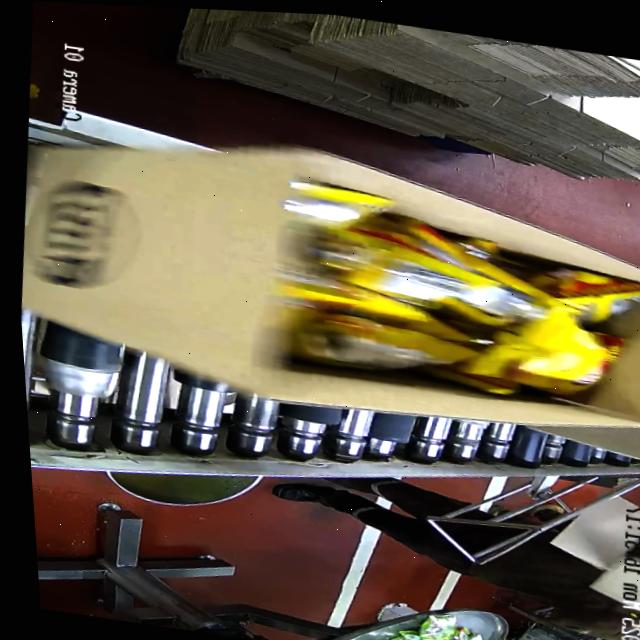SALTED: (267, 184, 640, 420)
